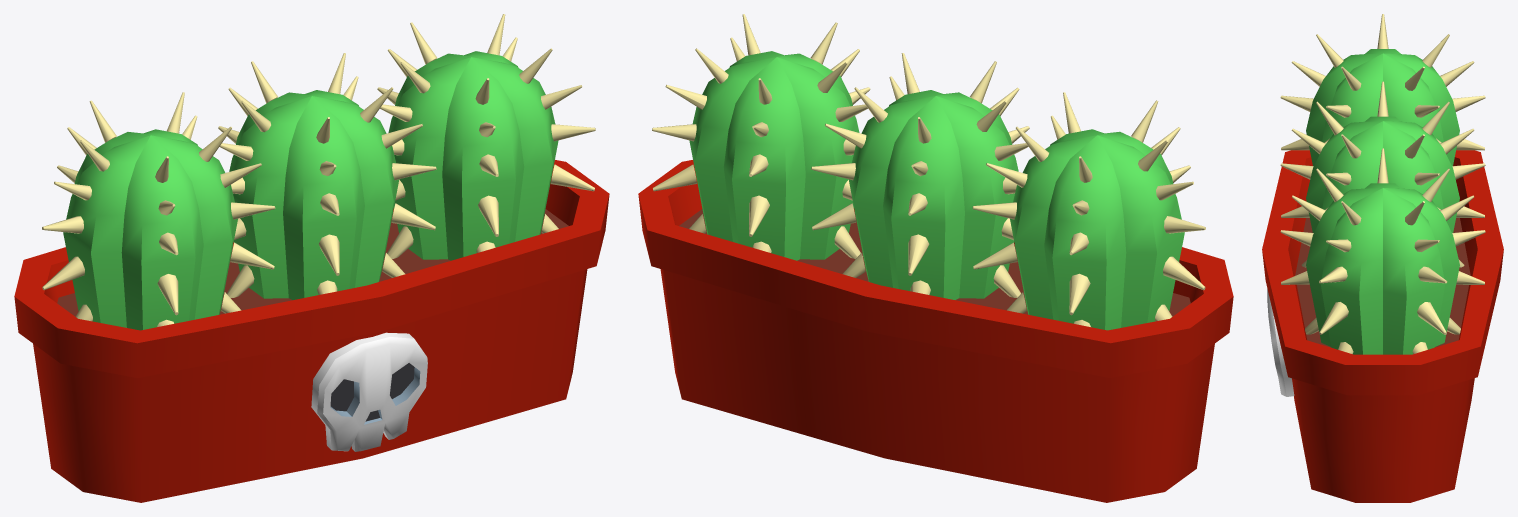
The model's file is CacteeTrio.fbx.
3 views of the same model, side by side, from view 1: azimuth 30°, elevation 25°; view 2: azimuth 150°, elevation 25°; view 3: azimuth 270°, elevation 25° (orthographic). The views are drawn at different scales.
Parts seen in each view (by area): view 1: Cactus.Triplets; view 2: Cactus.Triplets; view 3: Cactus.Triplets.
Boxes of the visible parts, x1,y1,x2,y2 form: Cactus.Triplets: [14, 14, 609, 502]; Cactus.Triplets: [638, 14, 1233, 502]; Cactus.Triplets: [1262, 14, 1503, 502].
Size of the model in its own units: 637 by 372 by 282.
